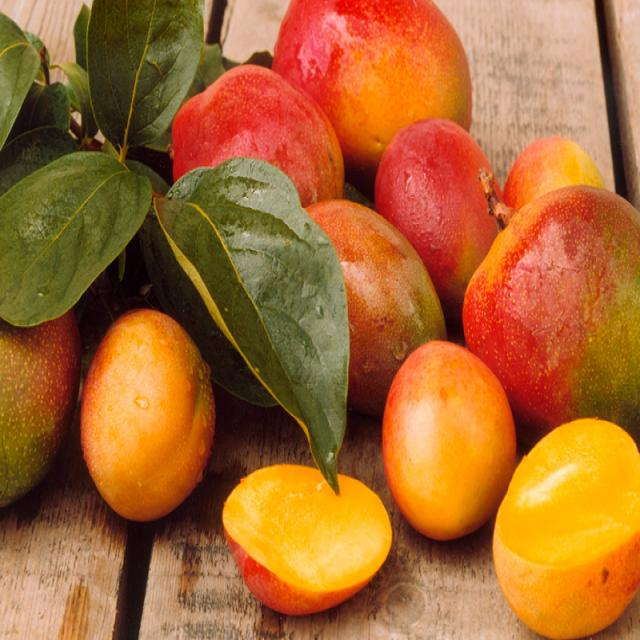mango: (459, 185, 640, 420), (274, 0, 482, 154), (74, 304, 220, 514), (383, 345, 514, 532), (383, 105, 503, 278)
